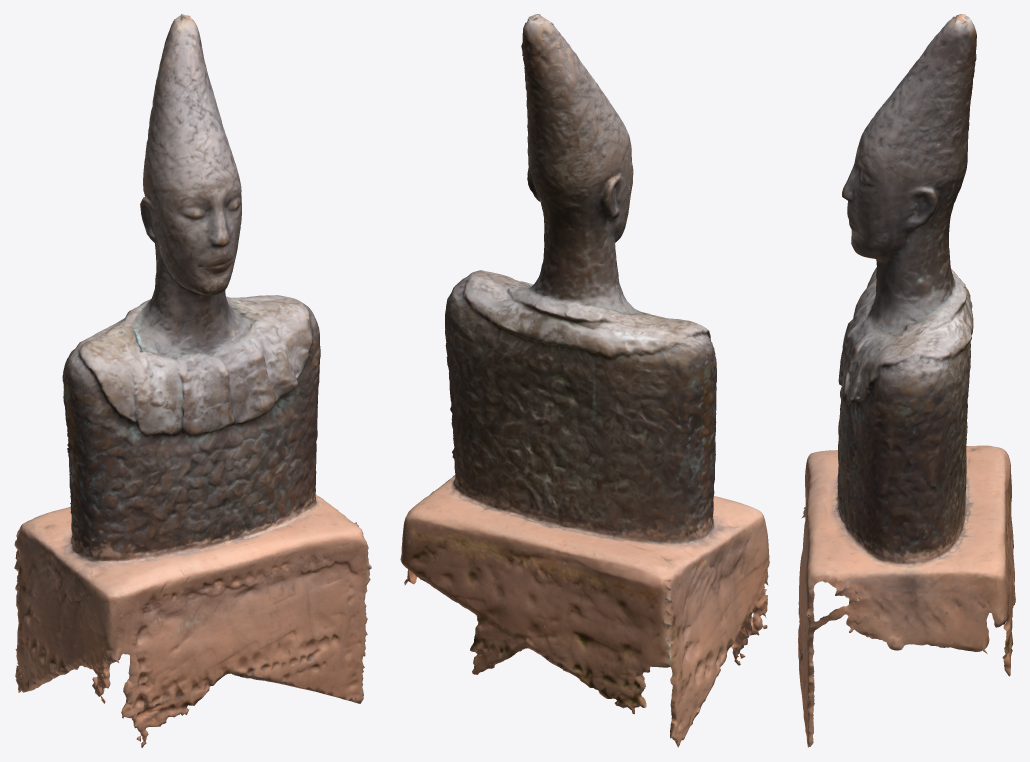
3 renders of one model, left to right at view 1: azimuth 30°, elevation 25°; view 2: azimuth 150°, elevation 25°; view 3: azimuth 270°, elevation 25°, orthographic. The views are drawn at different scales.
Parts seen in each view (by area): view 1: auguststrassepiece02.512.50k; view 2: auguststrassepiece02.512.50k; view 3: auguststrassepiece02.512.50k.
Part boxes in pixels (box(x1,y1,x2,y2)): auguststrassepiece02.512.50k: box(14, 14, 371, 747); auguststrassepiece02.512.50k: box(400, 14, 769, 747); auguststrassepiece02.512.50k: box(798, 14, 1015, 747).
Size of the model in its own units: 1.32 by 3.1 by 0.8958.
1 material, 1 textured.
